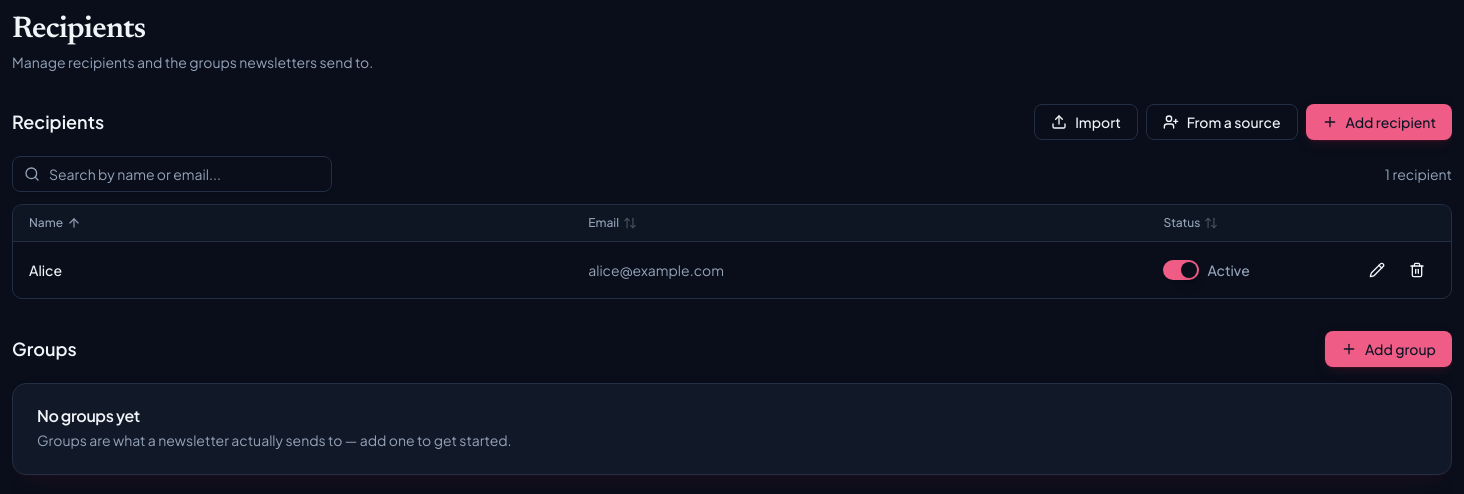
Scenario: RecipientsPage › lists recipients and toggles active state
Expected: the text "Alice" is shown, [29,261,62,279]
Click the switch.
click(1181, 270)  # box [1163,260,1199,280]
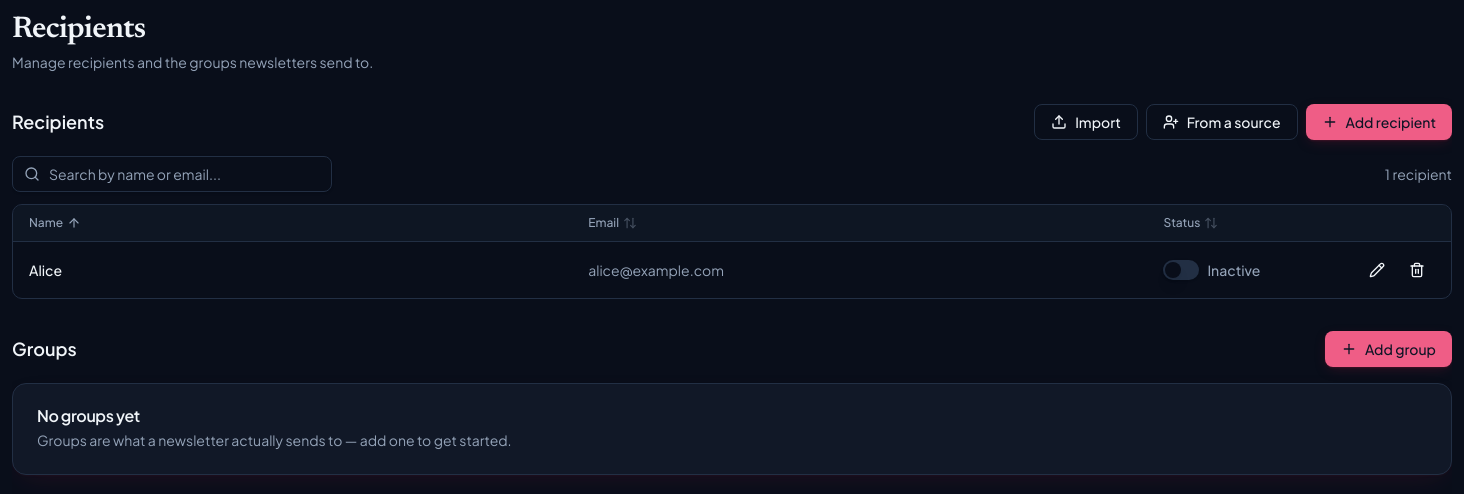
Now the text "Inactive" is shown, box [1207,263,1260,277]
